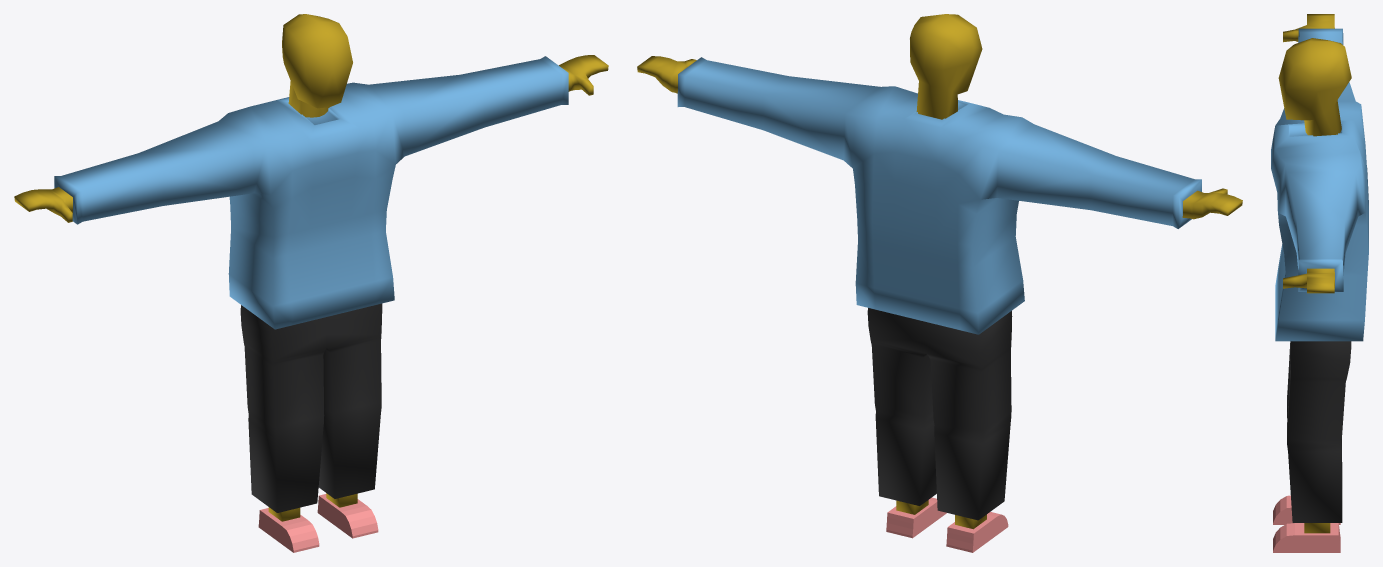
Rendered from AiLing_high.FBX.
The picture shows the model from 3 angles, left to right: view 1: azimuth 30°, elevation 25°; view 2: azimuth 150°, elevation 25°; view 3: azimuth 270°, elevation 25°; orthographic projection. The views are drawn at different scales.
Parts seen in each view (by area): view 1: AiLing_high; view 2: AiLing_high; view 3: AiLing_high.
Boxes of the visible parts, <box> form: AiLing_high: <box>14,14,608,552</box>; AiLing_high: <box>637,14,1242,552</box>; AiLing_high: <box>1271,14,1368,552</box>.
Size of the model in its own units: 68.32 by 57.04 by 10.28.
